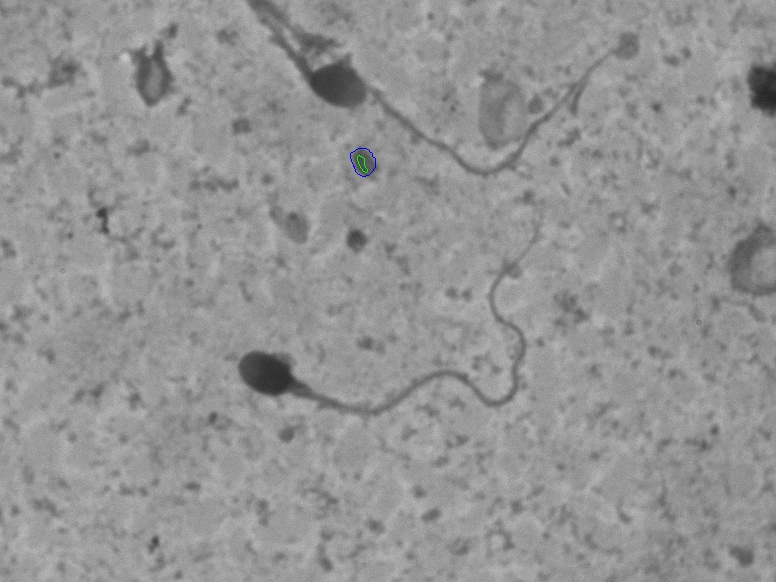Normal: (204, 171, 590, 443)
